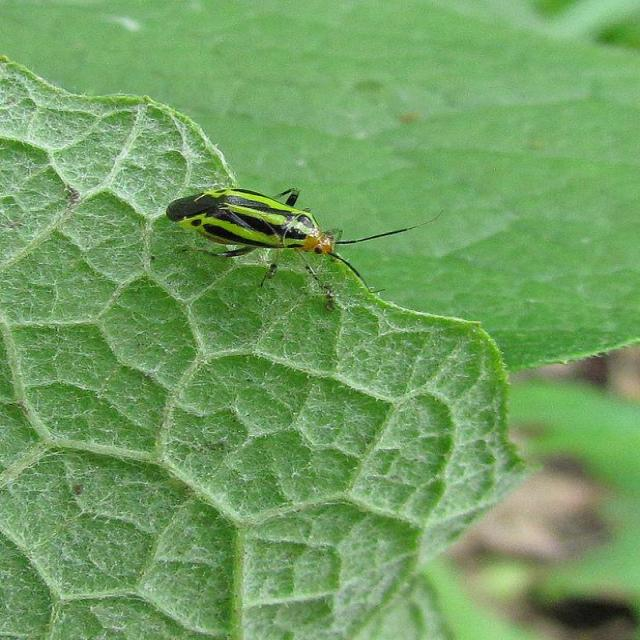Miridae-Adult-: (156, 180, 423, 292)
